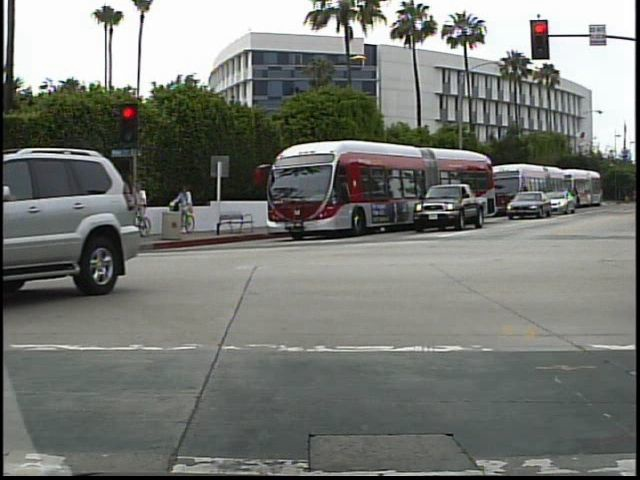person: (175, 183, 200, 236)
